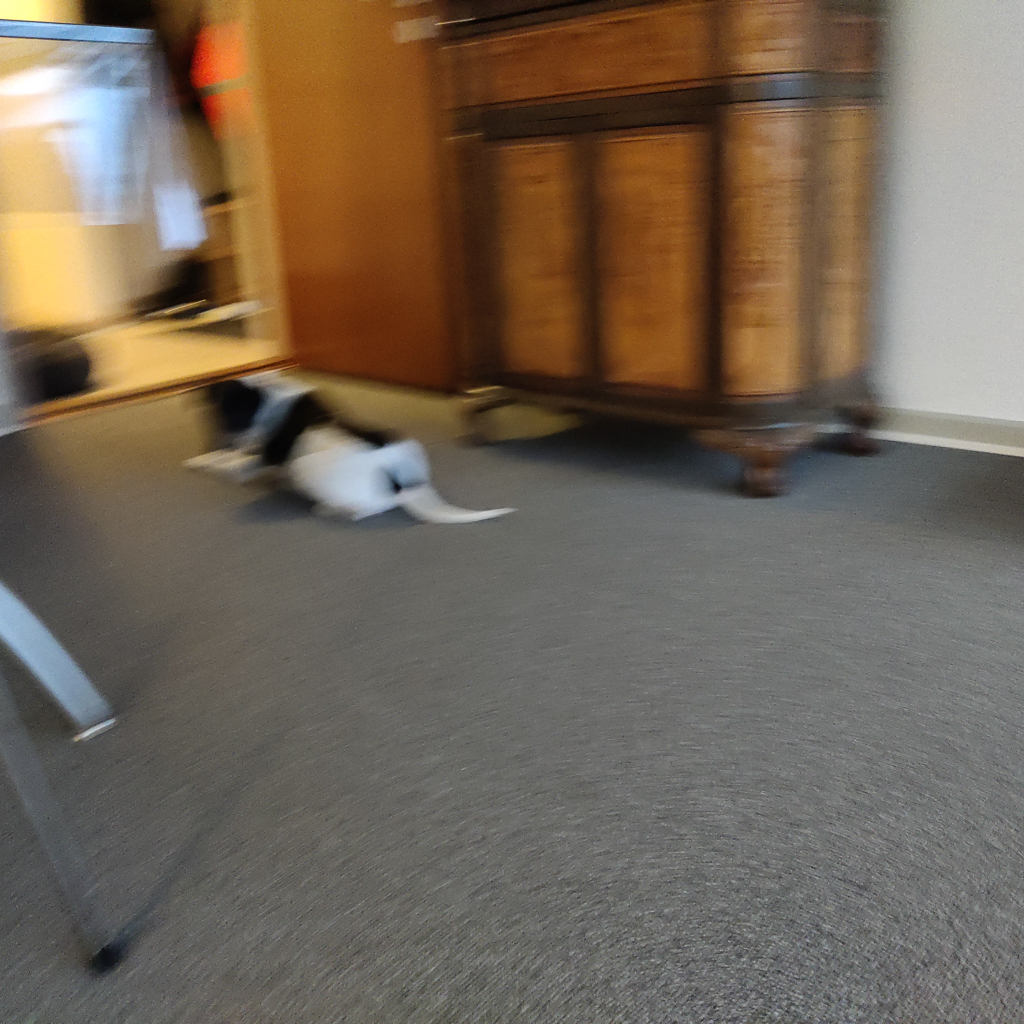Dog: (165, 345, 547, 545)
